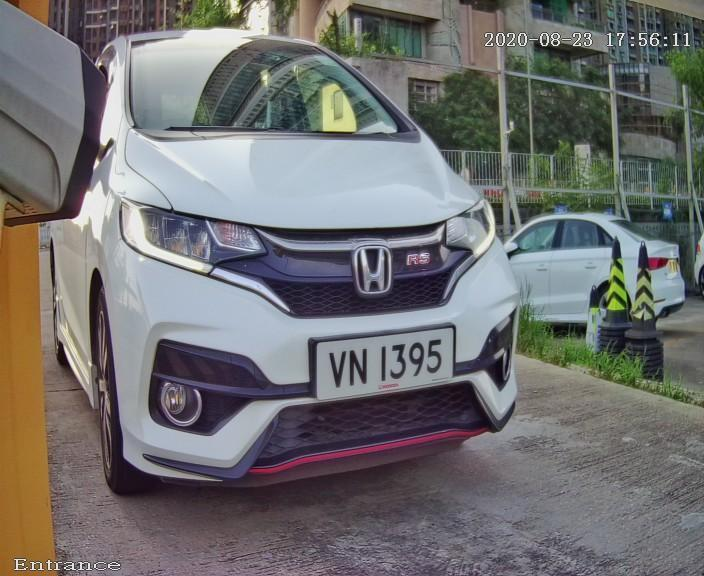Car: (38, 8, 585, 525)
License Plate: (262, 295, 502, 422)
